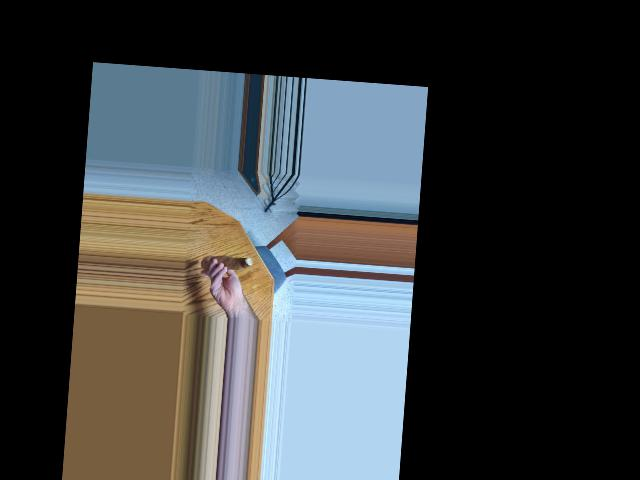sweet_potato: (209, 255, 254, 269)
